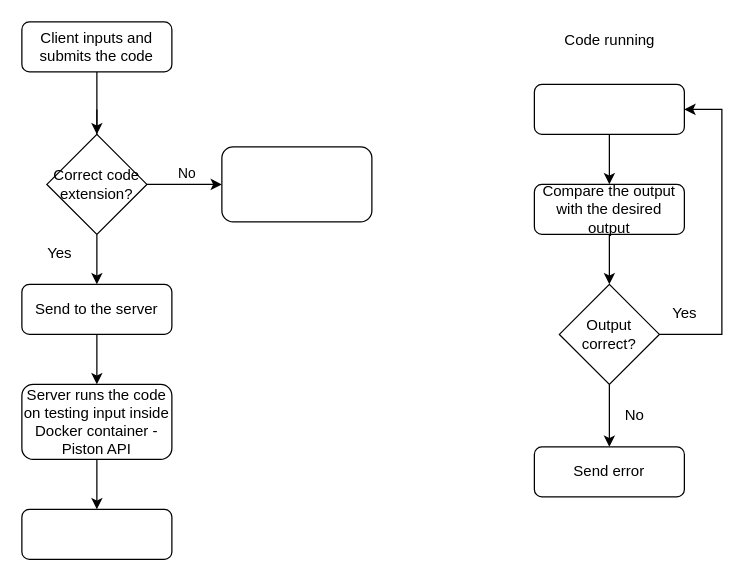
Image size: 754x581. Some labels were removed from this diagram. Each missing label, with the centre of its shape:
"Raise an error" belongs at [296,184].
"Return the result of testing to the client" belongs at [96,533].
"Run the code with test input" belongs at [608,108].
